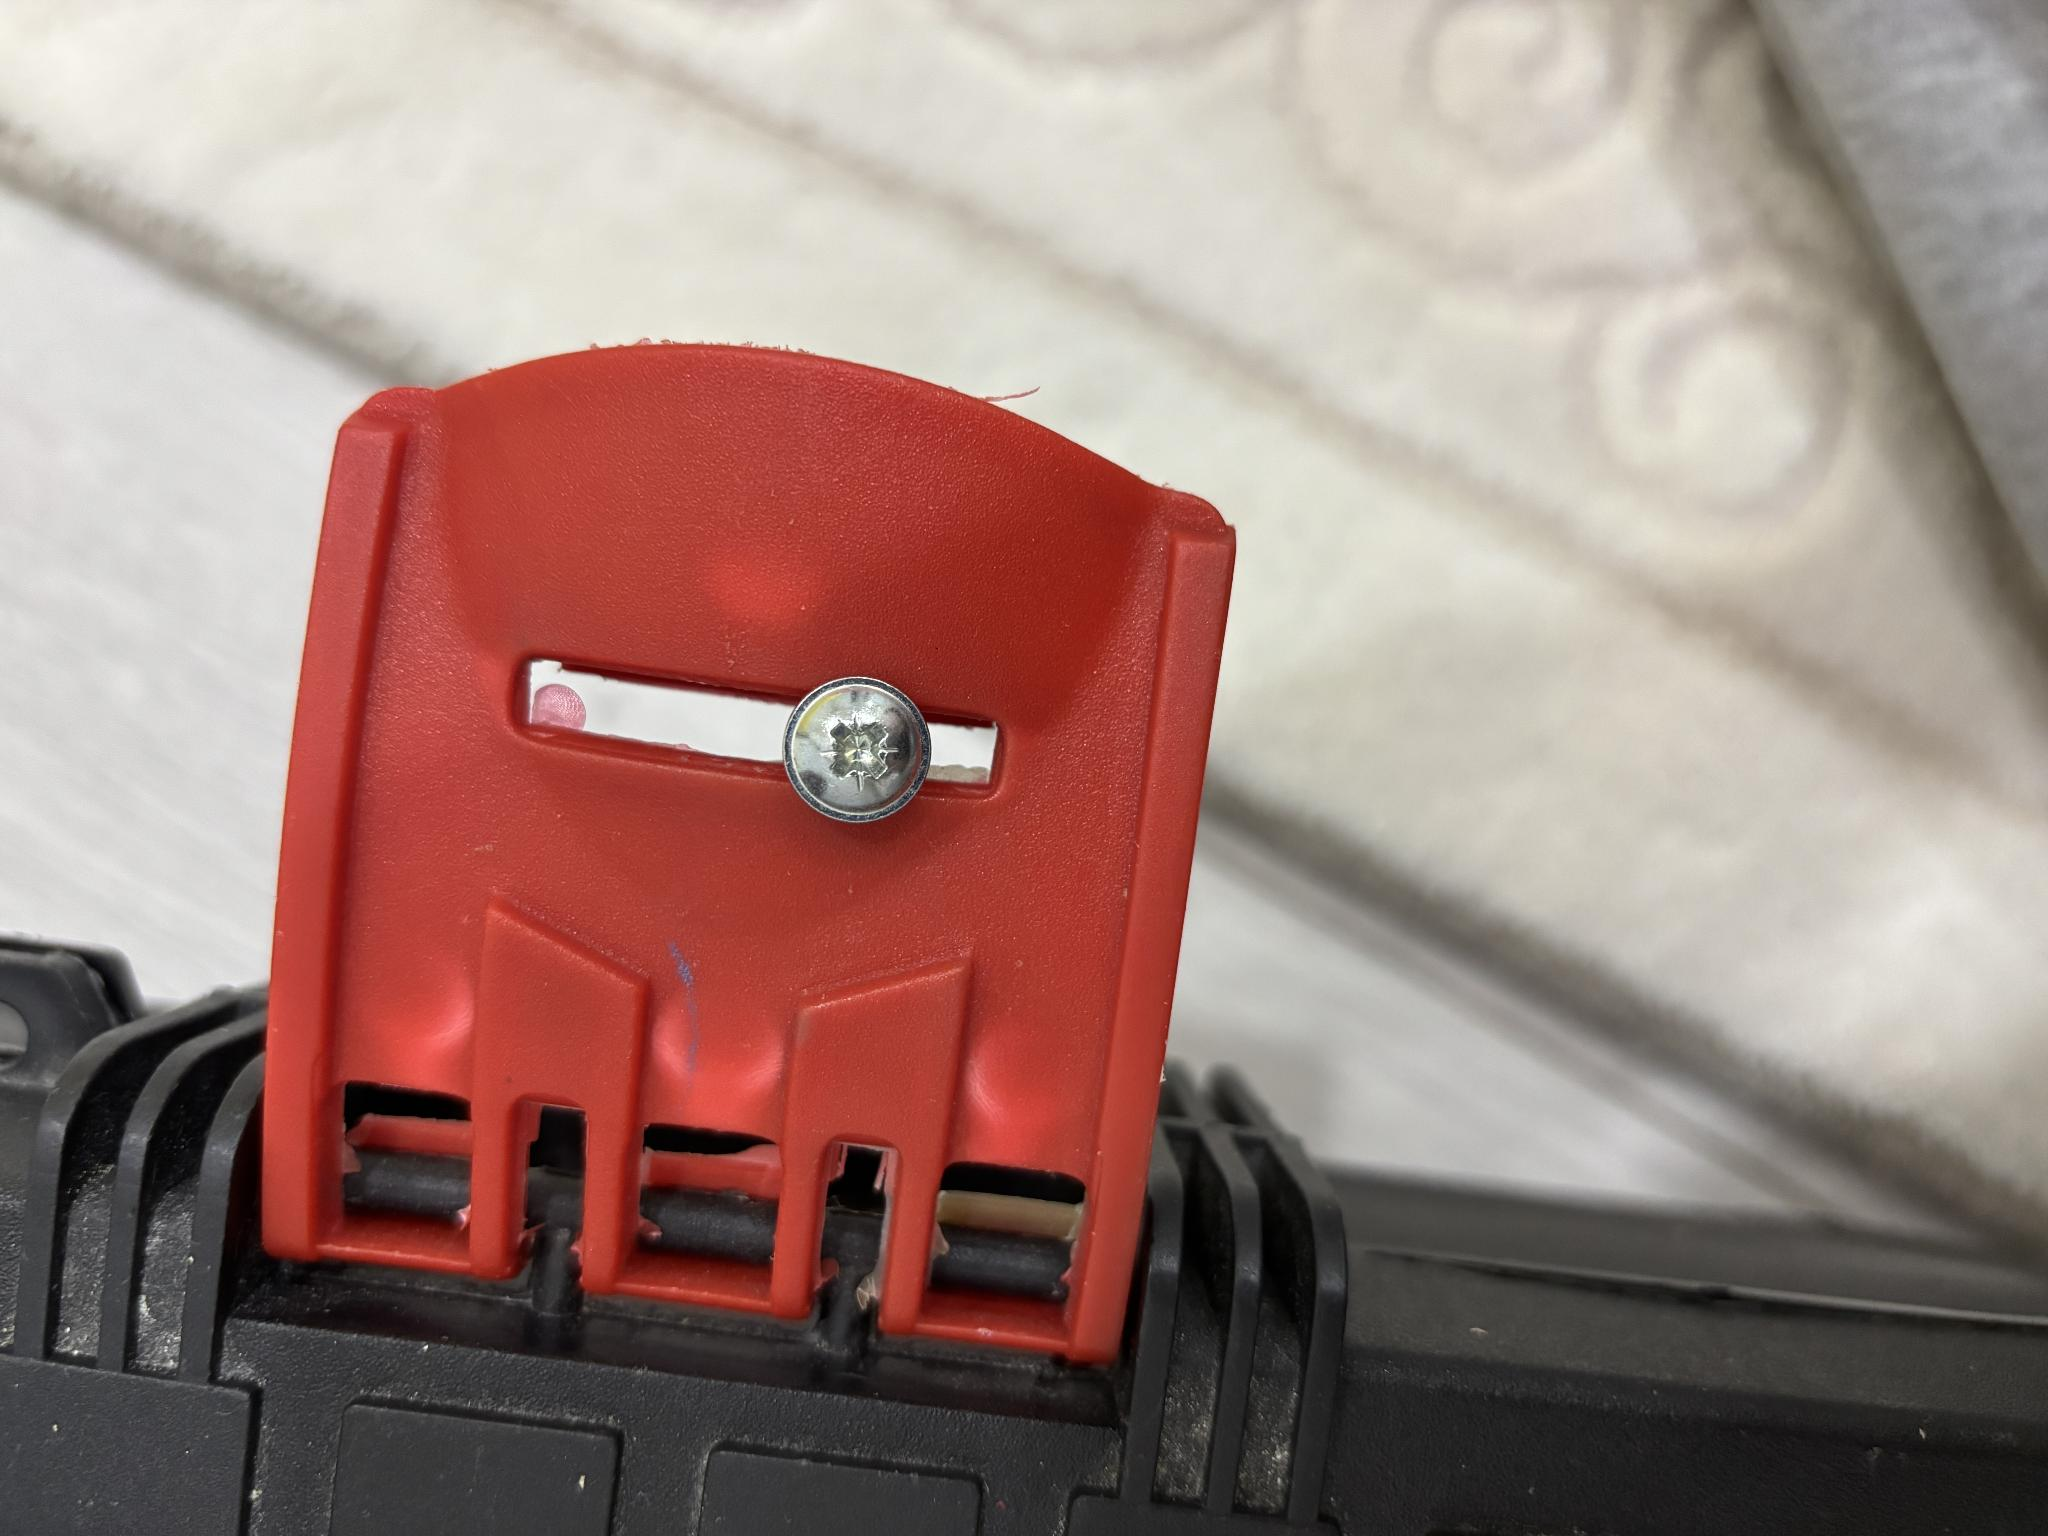PZ: (714, 783, 858, 931)
